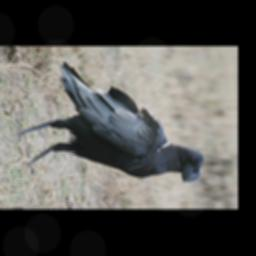Crow: (13, 59, 206, 187)
